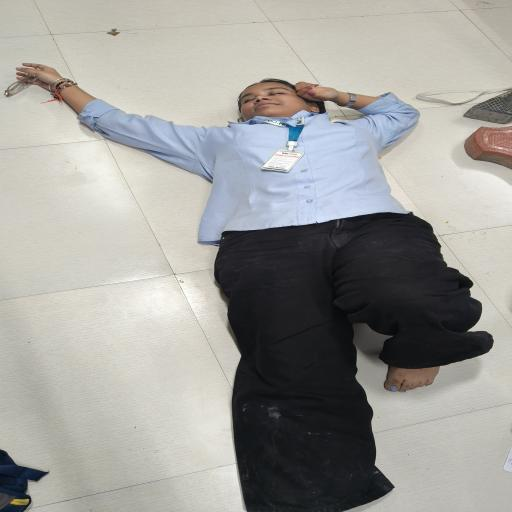survivor: (15, 63, 494, 512)
